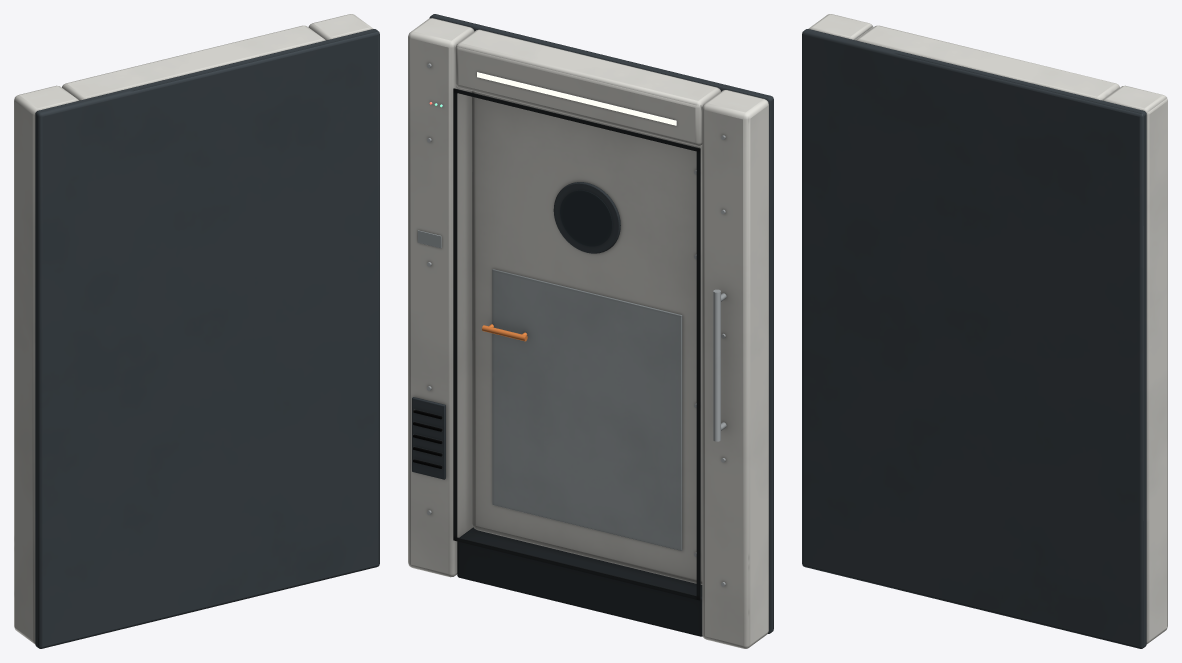
Rendered from docking_port.glb.
The picture shows the model from 3 angles, left to right: view 1: azimuth 30°, elevation 25°; view 2: azimuth 150°, elevation 25°; view 3: azimuth 330°, elevation 25°; orthographic projection.
Parts seen in each view (by area): view 1: port_back_frame_graphite, port_jamb_l_shell_white, port_header_shell_white, port_jamb_r_shell_white; view 2: hatch_door_panel_shell_white, hatch_door_inset_panel_cool, port_jamb_l_shell_white, port_jamb_r_shell_white, port_header_shell_white, port_sill_deep_graphite, port_gasket_black_rubber, port_back_frame_graphite, hatch_door_rim_frame_graphite, port_equaliser_vent, hatch_door_window_dark_glass, port_handrail_satin_alloy (+1 smaller); view 3: port_back_frame_graphite, port_jamb_r_shell_white, port_header_shell_white, port_jamb_l_shell_white.
Boxes of the visible parts, bbox=[...] form: port_back_frame_graphite: bbox=[35, 29, 379, 648]; port_jamb_l_shell_white: bbox=[14, 85, 78, 643]; port_header_shell_white: bbox=[62, 25, 325, 100]; port_jamb_r_shell_white: bbox=[308, 14, 373, 40]; hatch_door_panel_shell_white: bbox=[472, 91, 702, 584]; hatch_door_inset_panel_cool: bbox=[492, 269, 682, 550]; port_jamb_l_shell_white: bbox=[702, 90, 768, 648]; port_jamb_r_shell_white: bbox=[408, 18, 474, 577]; port_header_shell_white: bbox=[455, 29, 720, 145]; port_sill_deep_graphite: bbox=[457, 527, 702, 636]; port_gasket_black_rubber: bbox=[453, 88, 700, 600]; port_back_frame_graphite: bbox=[429, 14, 773, 633]; hatch_door_rim_frame_graphite: bbox=[553, 182, 620, 253]; port_equaliser_vent: bbox=[412, 397, 445, 479]; hatch_door_window_dark_glass: bbox=[560, 190, 612, 246]; port_handrail_satin_alloy: bbox=[713, 289, 726, 441]; port_back_frame_graphite: bbox=[802, 29, 1146, 648]; port_jamb_r_shell_white: bbox=[1103, 85, 1167, 643]; port_header_shell_white: bbox=[856, 25, 1119, 100]; port_jamb_l_shell_white: bbox=[808, 14, 873, 40].
Bounding box in the file's own units: 1.44 × 2.16 × 0.264.
Materials: 6 (1 with a texture image).
